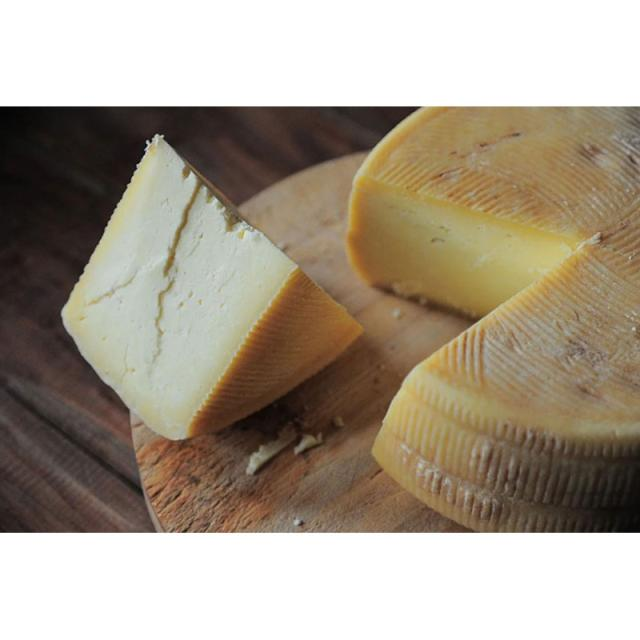Cheese: (344, 112, 640, 528), (56, 127, 382, 420)
